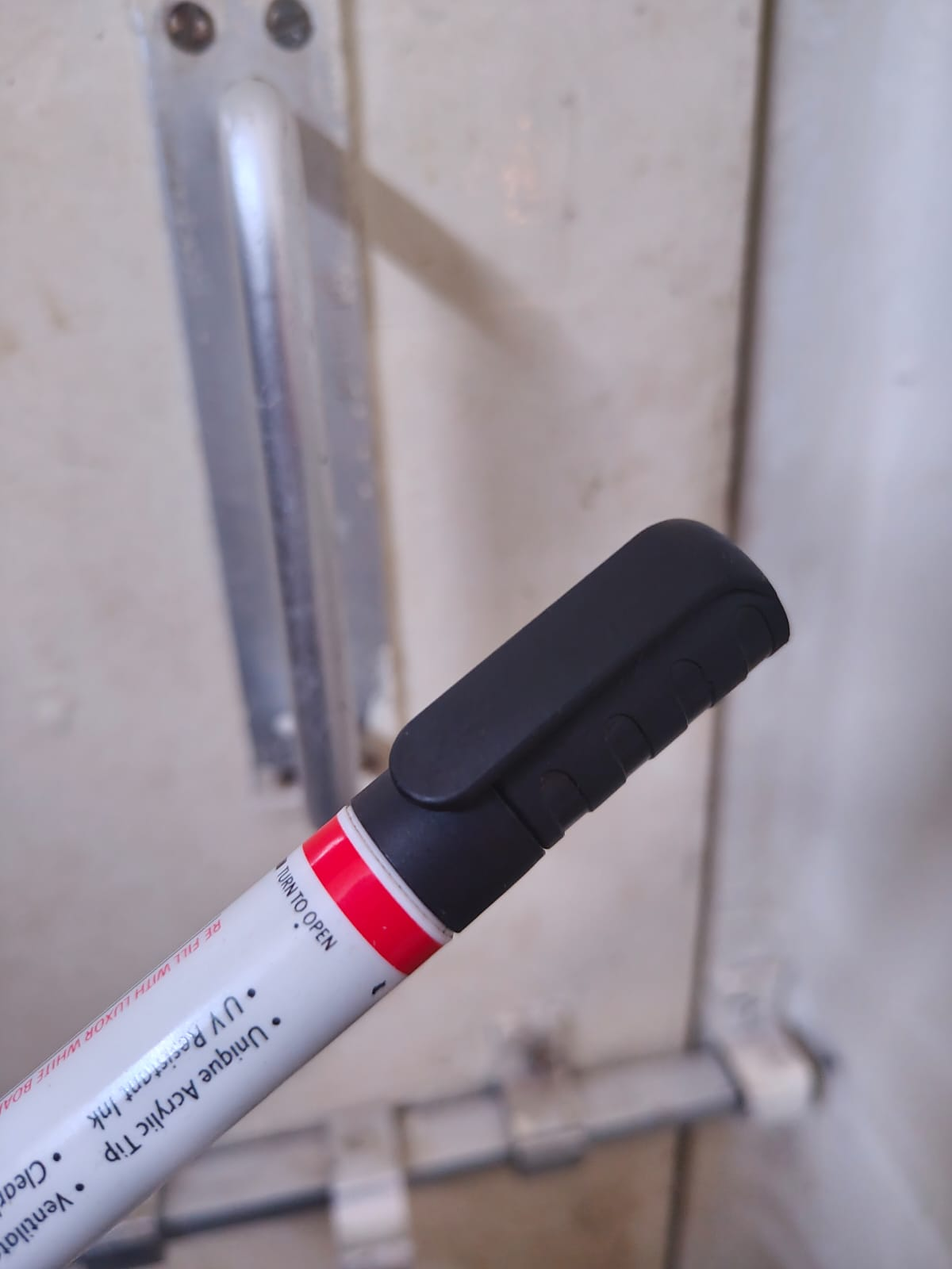case: (2, 496, 884, 1247)
